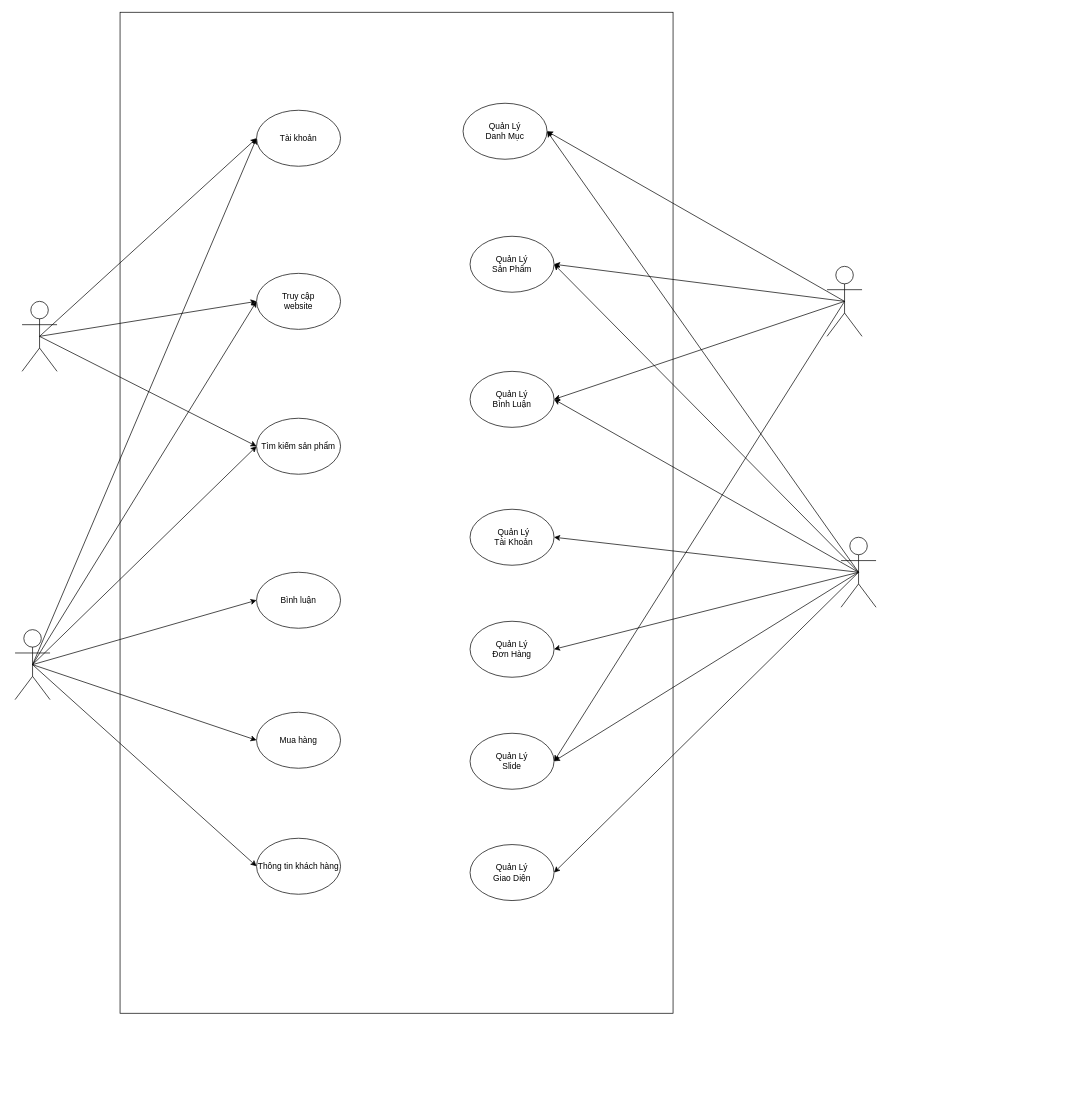
Some shapes in this 1084 by 1096 pixel diagram are drawn without their labels. Each missing label, with the centre of its shape:
Admin: (x=858, y=572)
Khách: (x=39, y=336)
Nhân viên: (x=844, y=301)
Thành viên: (x=32, y=664)
